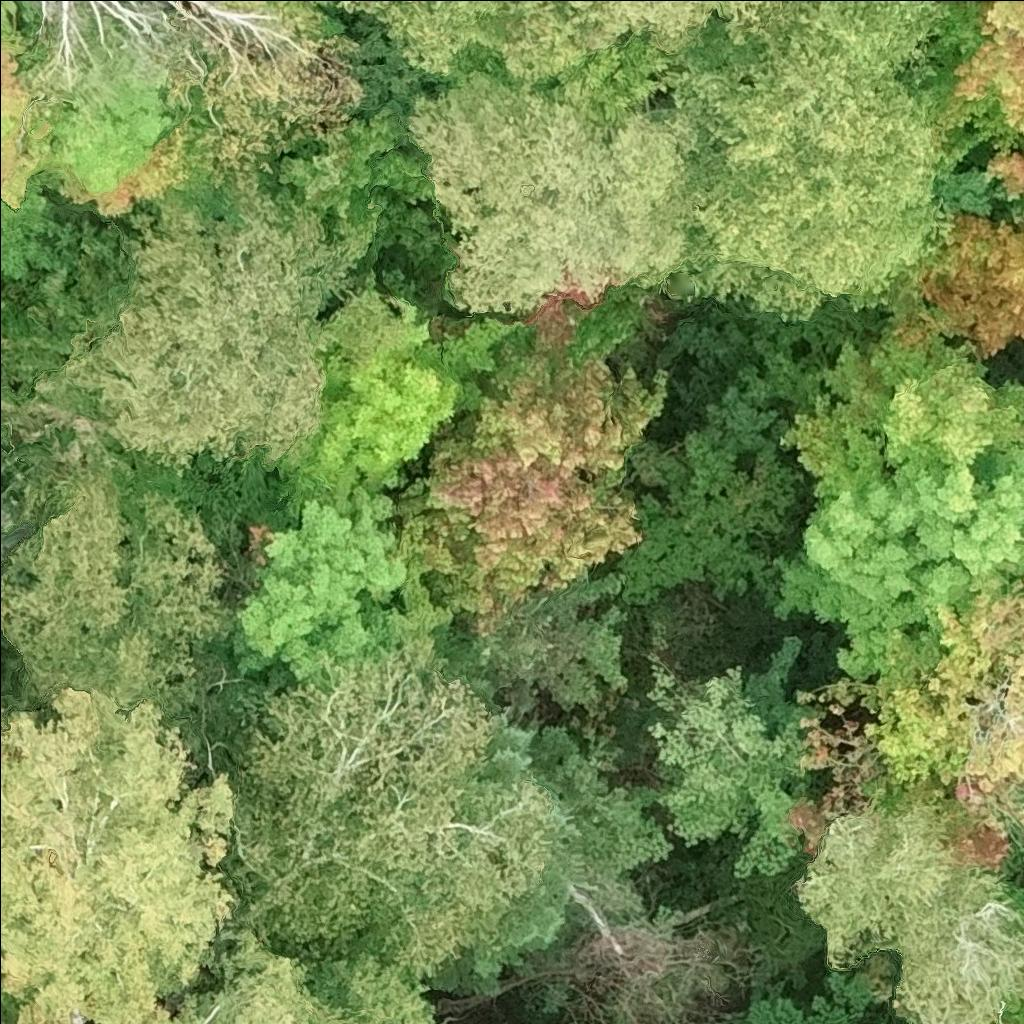crown: (220, 642, 554, 980), (55, 172, 378, 476), (0, 687, 243, 1023), (678, 24, 945, 323), (403, 72, 712, 316), (768, 431, 1023, 679), (274, 274, 529, 518), (0, 473, 227, 718), (798, 789, 1023, 1023), (392, 421, 646, 616), (0, 0, 171, 281), (859, 562, 1023, 843), (454, 283, 665, 486), (643, 632, 817, 878), (211, 490, 409, 692), (778, 321, 1023, 479), (133, 919, 436, 1023), (498, 0, 781, 79), (889, 215, 1023, 361), (765, 0, 945, 79), (930, 0, 1023, 150), (337, 0, 503, 80), (984, 137, 1023, 201), (15, 1001, 44, 1023), (1003, 1002, 1023, 1020), (1012, 884, 1023, 907)
